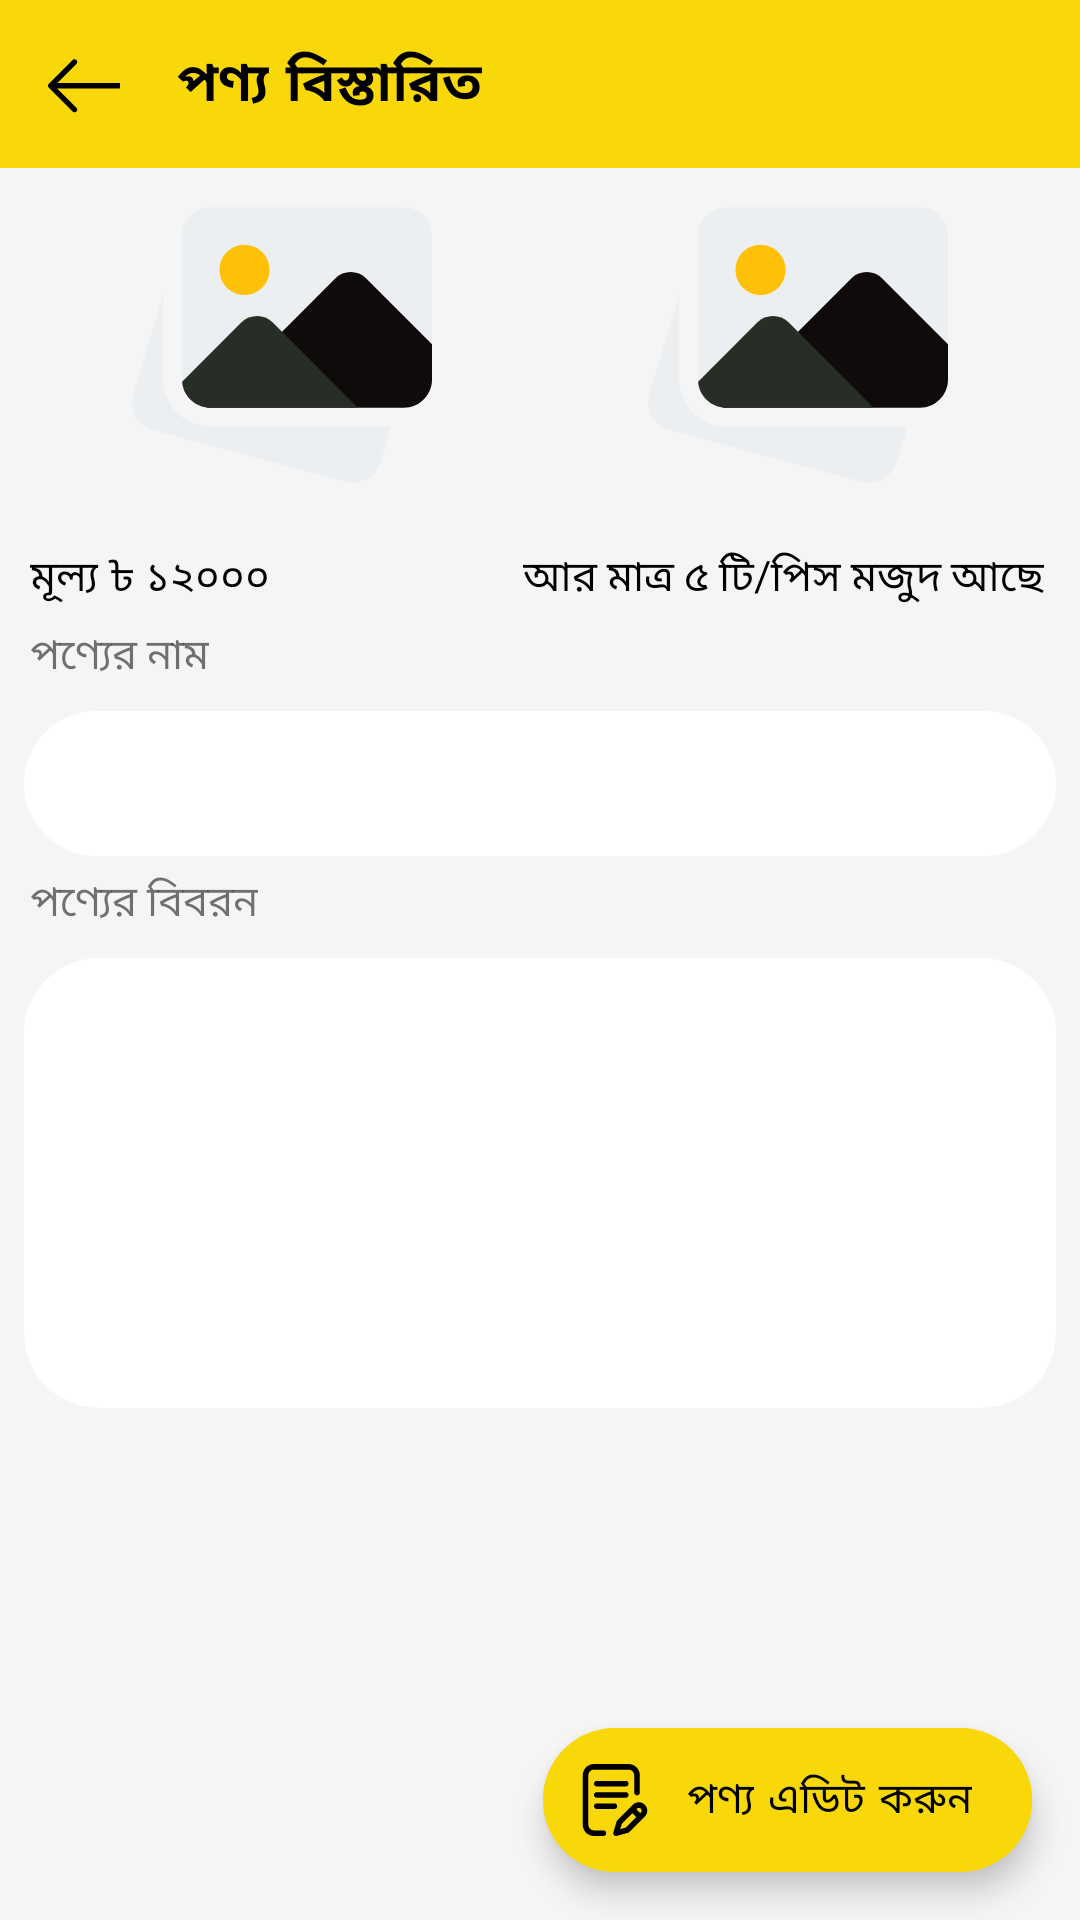

Icons on this 1080px x 1920px Android screen, each with the point to tap as (x=x, y=y):
arrow: (x=84, y=86)
